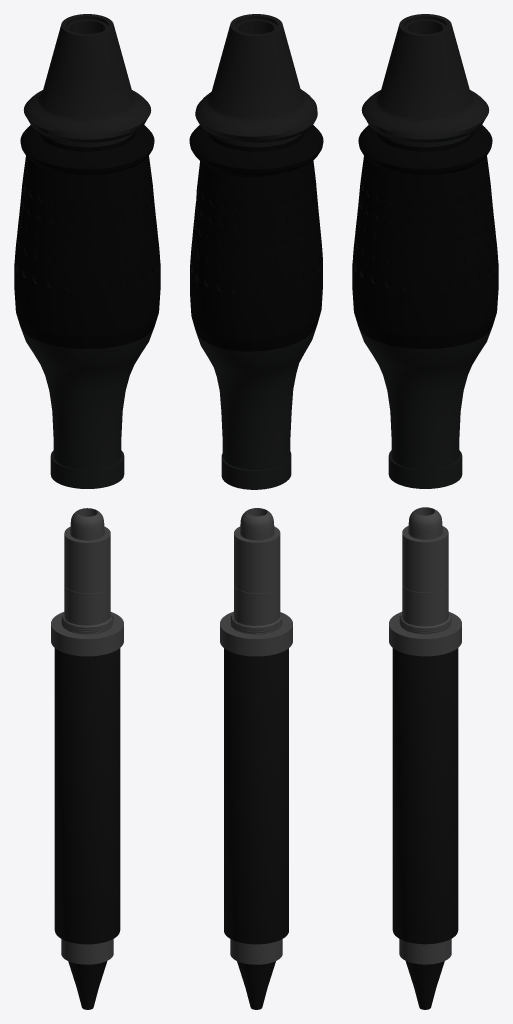
File: BORR.fbx
The picture shows the model from 3 angles, left to right: view 1: azimuth 90°, elevation 25°; view 2: azimuth 150°, elevation 25°; view 3: azimuth 270°, elevation 25°; orthographic projection.
Visible parts, largest first — view 1: handle, Cylinder, connectionBit, Cylinder.002, Vert.005, chargeTubeconect, botmoffconnect; view 2: handle, Cylinder, connectionBit, Cylinder.002, Vert.005, chargeTubeconect, botmoffconnect; view 3: handle, Cylinder, connectionBit, Cylinder.002, Vert.005, chargeTubeconect, botmoffconnect.
Part boxes in pixels (x1,y1,x2,y2): handle: (14, 14, 160, 488); Cylinder: (54, 648, 120, 944); connectionBit: (64, 508, 110, 625); Cylinder.002: (51, 612, 123, 656); Vert.005: (68, 961, 107, 1009); chargeTubeconect: (61, 939, 113, 964); botmoffconnect: (61, 612, 113, 634); handle: (189, 14, 323, 489); Cylinder: (224, 648, 288, 944); connectionBit: (234, 508, 280, 625); Cylinder.002: (220, 611, 292, 656); Vert.005: (237, 961, 275, 1009); chargeTubeconect: (230, 939, 282, 964); botmoffconnect: (230, 612, 282, 634); handle: (352, 14, 498, 488); Cylinder: (392, 648, 458, 944); connectionBit: (402, 507, 448, 626); Cylinder.002: (389, 612, 461, 656); Vert.005: (405, 961, 444, 1009); chargeTubeconect: (399, 939, 451, 964); botmoffconnect: (399, 611, 451, 634).
Size of the model in its own units: 112 by 904 by 122.
3 materials, 1 textured.
